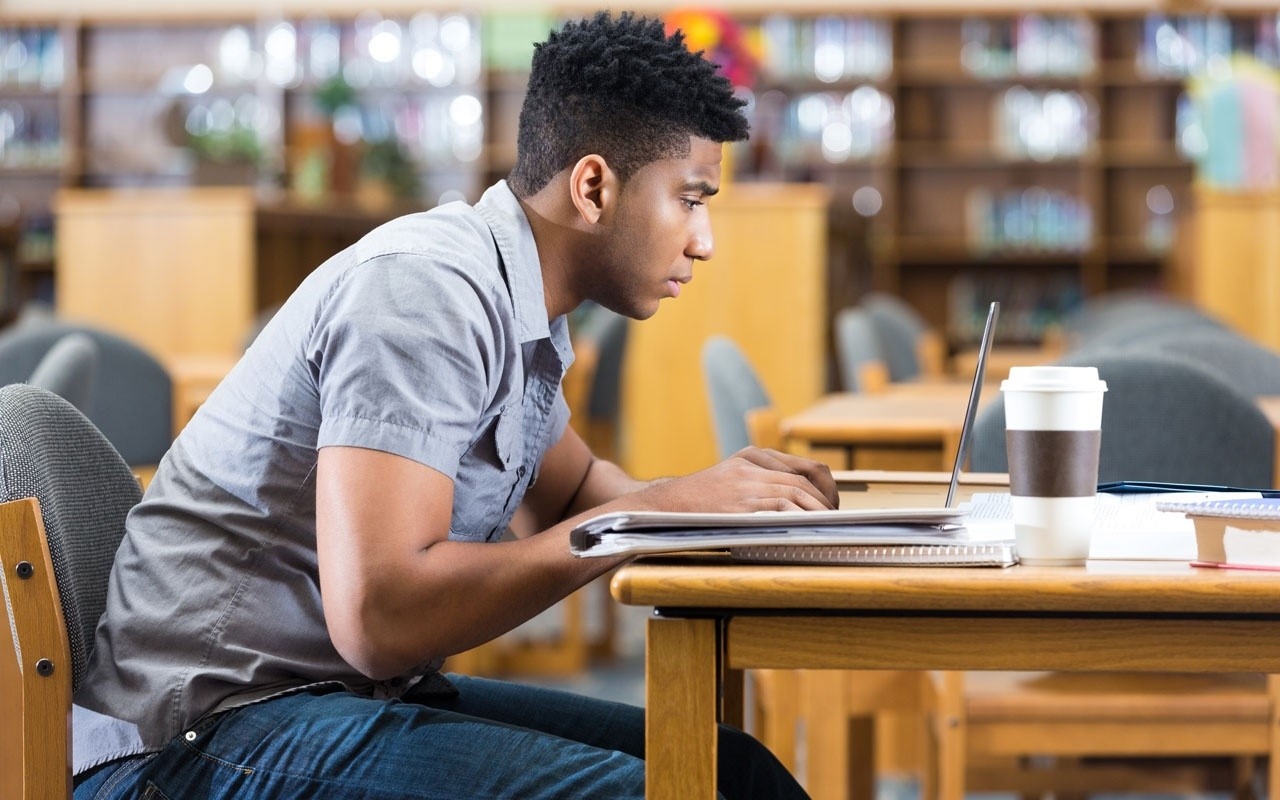face_no_mask: (514, 15, 745, 319)
